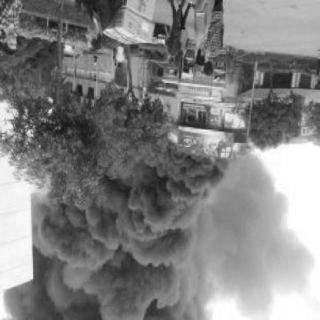Fire: (165, 103, 268, 167)
Smoke: (7, 163, 233, 319)
